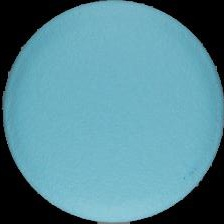55289-053: (0, 0, 224, 224)
